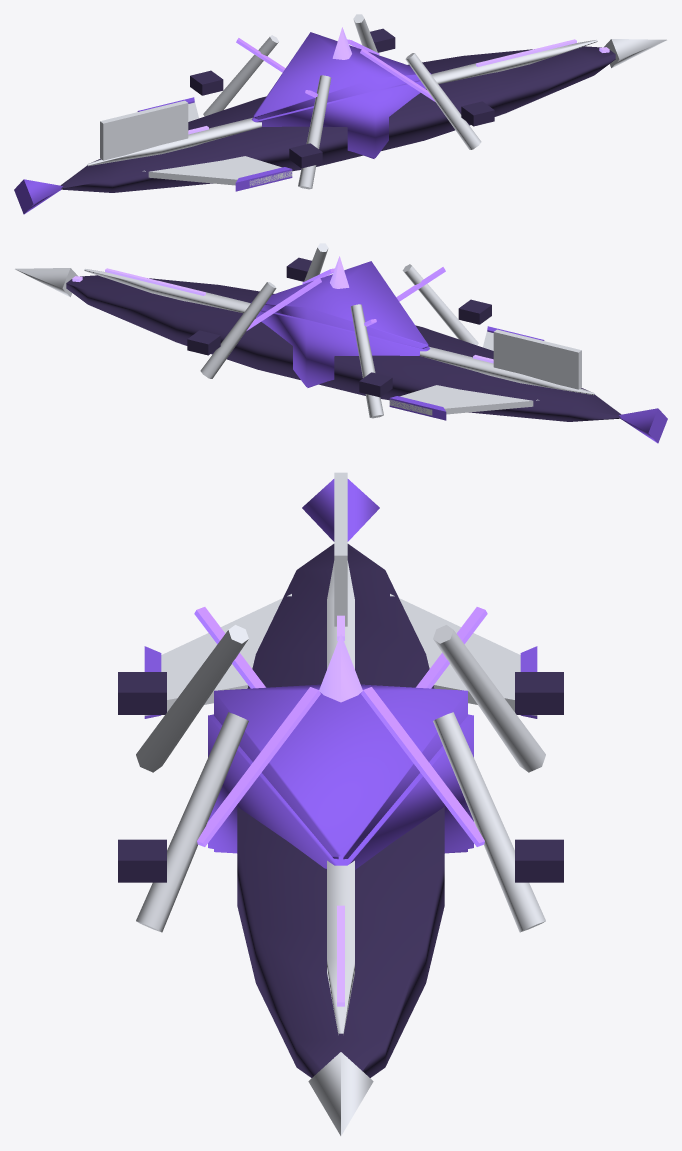
File: cantus-hadron.glb
The picture shows the model from 3 angles, top to bottom: view 1: azimuth 30°, elevation 25°; view 2: azimuth 150°, elevation 25°; view 3: azimuth 270°, elevation 25°; orthographic projection. The views are drawn at different scales.
Parts seen in each view (by area): view 1: blade_hull, node_upper, node_lower, dorsal_fin, blade_spine, guard_blade_s, cradle_strut_0, cradle_strut_2, cradle_strut_3, drive_prism, bow_prism, guard_edge_s (+9 smaller); view 2: blade_hull, node_upper, node_lower, dorsal_fin, blade_spine, guard_blade_p, cradle_strut_1, cradle_strut_3, cradle_strut_2, drive_prism, bow_prism, cradle_foot_1 (+9 smaller); view 3: blade_hull, node_upper, node_lower, cradle_strut_0, cradle_strut_1, blade_spine, cradle_strut_2, cradle_strut_3, guard_blade_s, guard_blade_p, bow_prism, node_ridge_0 (+10 smaller).
Part boxes in pixels (x1,y1,x2,y2): blade_hull: (60, 46, 615, 192); node_upper: (253, 32, 431, 158); node_lower: (251, 80, 425, 157); dorsal_fin: (100, 100, 188, 160); blade_spine: (87, 40, 597, 166); guard_blade_s: (142, 156, 292, 186); cradle_strut_0: (405, 53, 481, 149); cradle_strut_2: (298, 75, 331, 189); cradle_strut_3: (203, 35, 279, 116); drive_prism: (14, 179, 62, 214); bow_prism: (604, 39, 666, 68); guard_edge_s: (235, 167, 292, 191); blade_hull: (66, 275, 621, 421); node_upper: (250, 261, 428, 387); node_lower: (256, 309, 430, 386); dorsal_fin: (493, 329, 581, 389); blade_spine: (84, 269, 594, 395); guard_blade_p: (389, 385, 539, 415); cradle_strut_1: (200, 282, 276, 378); cradle_strut_3: (350, 304, 383, 418); cradle_strut_2: (402, 264, 478, 345); drive_prism: (619, 408, 667, 443); bow_prism: (15, 268, 77, 297); cradle_foot_1: (187, 330, 220, 355); blade_hull: (237, 544, 444, 1077); node_upper: (214, 684, 467, 859); node_lower: (208, 714, 473, 869); cradle_strut_0: (136, 712, 248, 932); cradle_strut_1: (433, 712, 545, 932); blade_spine: (327, 561, 354, 1034); cradle_strut_2: (136, 625, 248, 772); cradle_strut_3: (433, 625, 545, 772); guard_blade_s: (144, 594, 291, 715); guard_blade_p: (390, 594, 537, 715); bow_prism: (308, 1052, 373, 1135); node_ridge_0: (197, 687, 320, 846).
Bounding box in the file's own units: 80 × 13.1 × 24.
